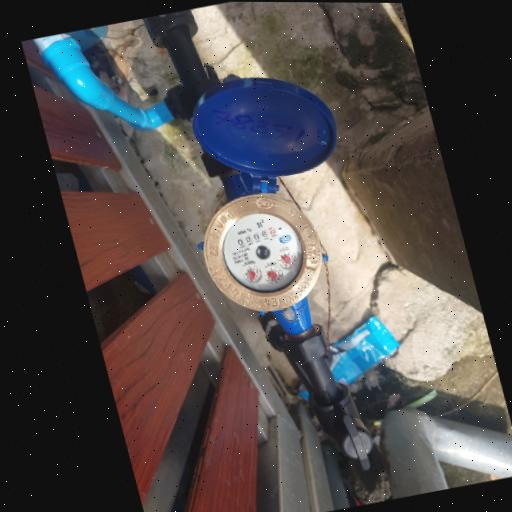0: (244, 234, 254, 245), (251, 232, 261, 243), (236, 237, 245, 248)
6: (266, 225, 278, 238), (259, 229, 269, 240)
border_water_meter_number: (231, 222, 282, 251)
